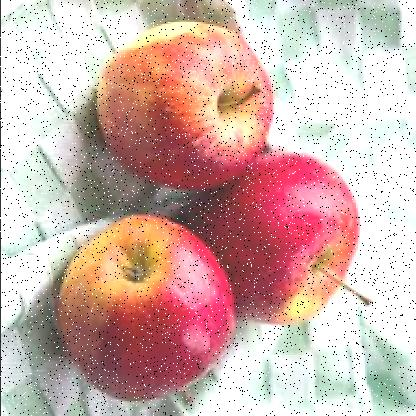apple: (55, 209, 236, 403), (96, 15, 276, 185), (202, 152, 356, 330)
